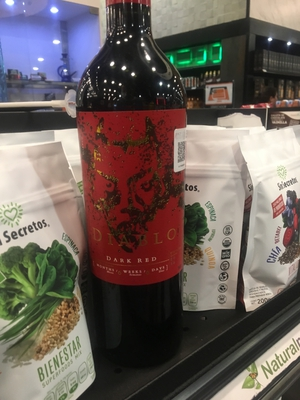diablo dark red: (66, 8, 204, 343)
